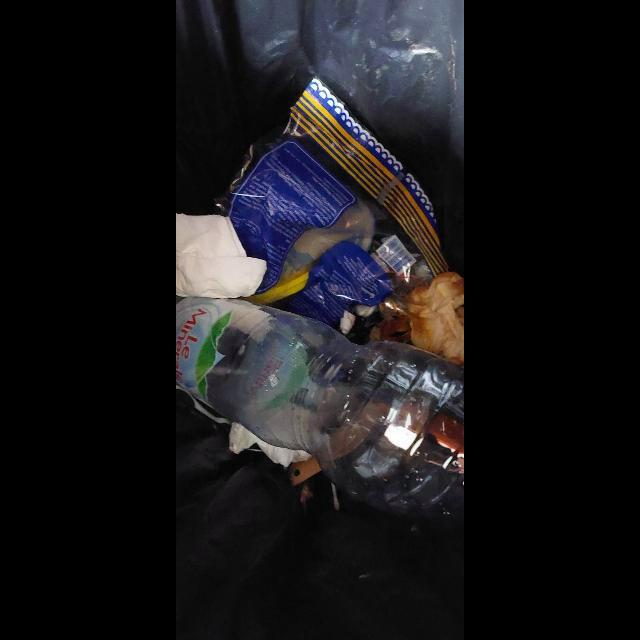food_wrapper: (213, 79, 449, 347)
paper: (176, 214, 268, 303)
plastic_bottle: (176, 297, 465, 531)
